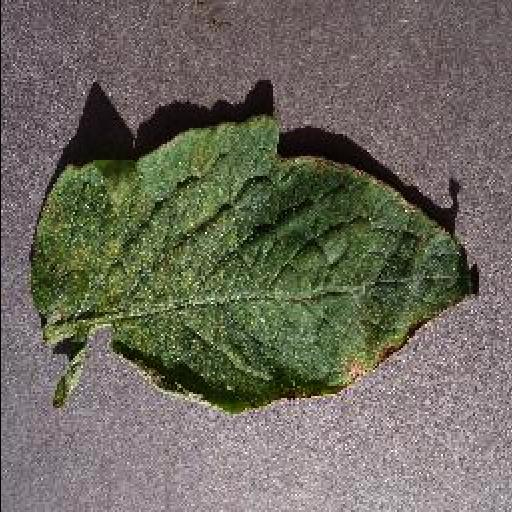disease_tomato: (30, 118, 480, 412)
